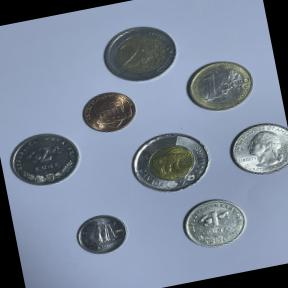coin: (122, 122, 220, 202), (96, 16, 186, 89), (1, 124, 88, 195), (179, 53, 261, 118), (221, 115, 288, 183), (74, 85, 144, 139), (69, 206, 134, 261)
